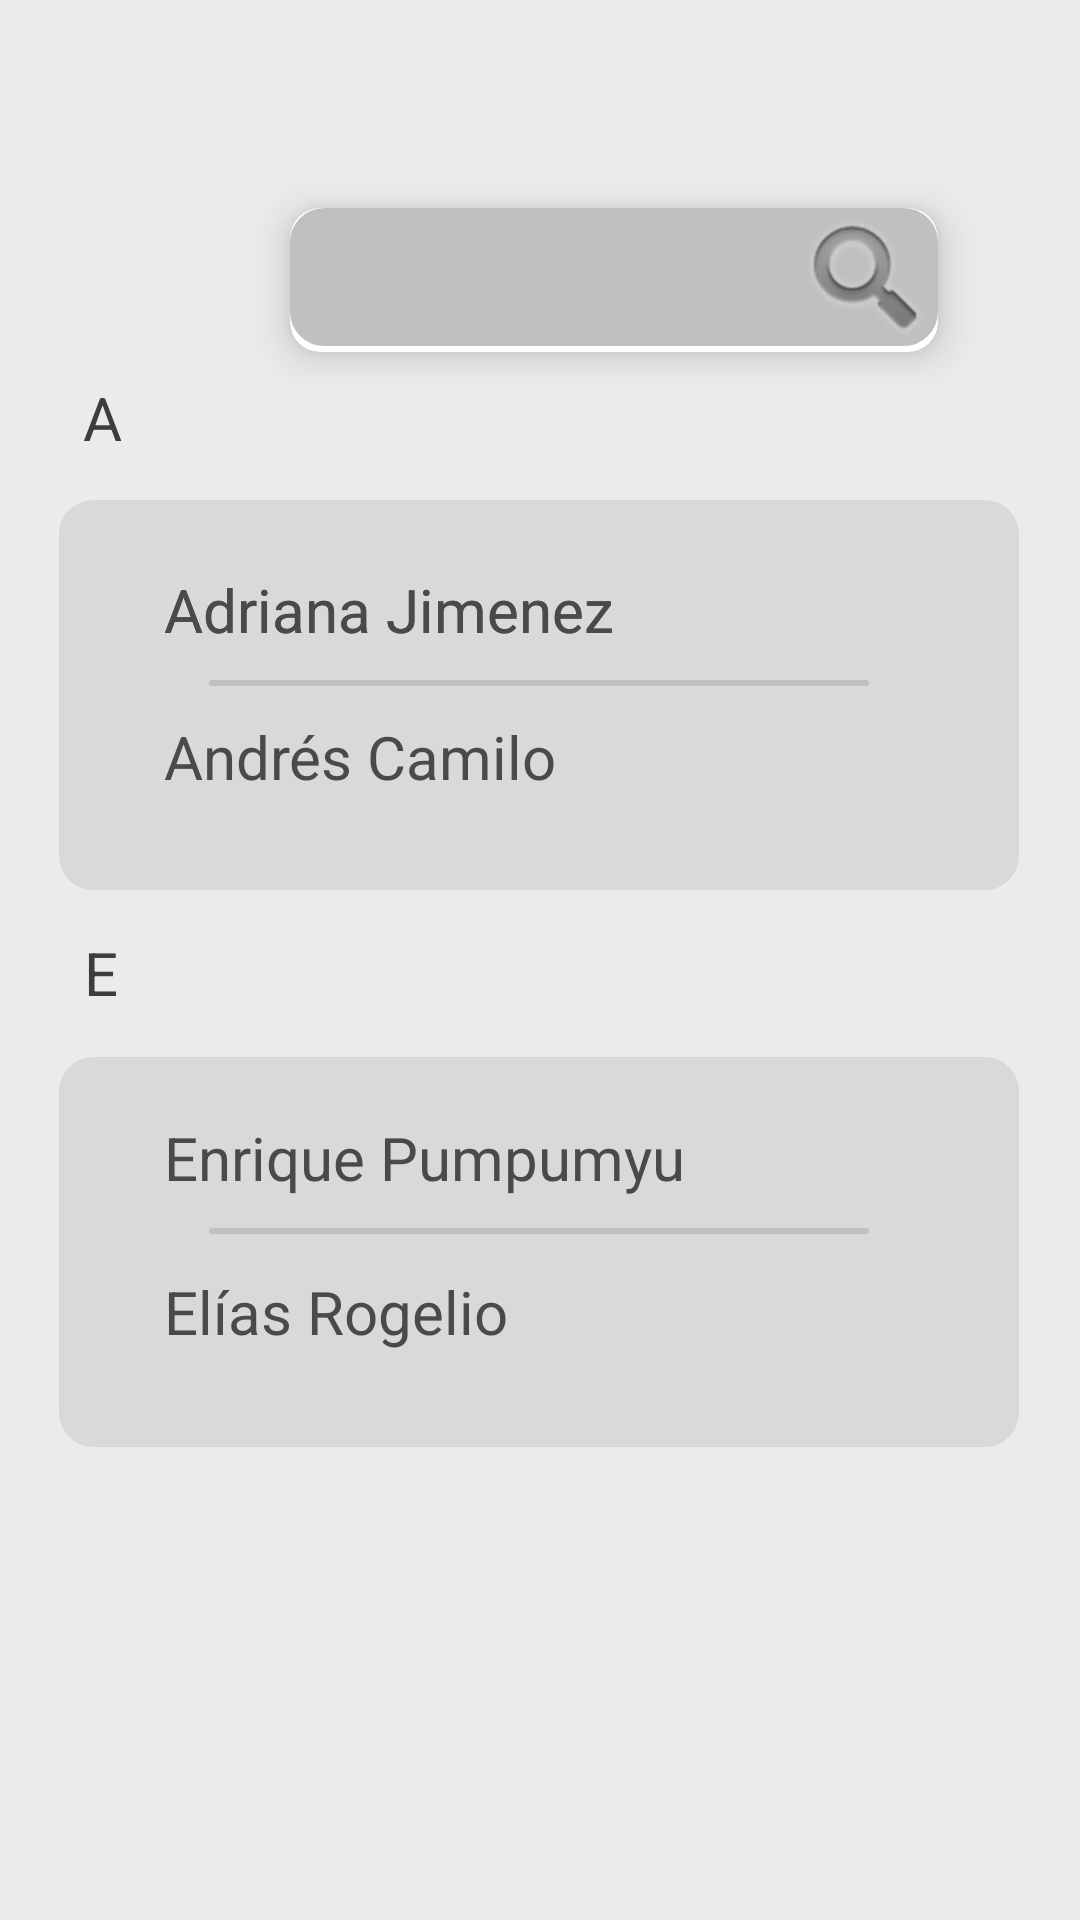

Screen size 1080px x 1920px. Icon name, then its box in pixels as (x1, y1, x2, y2):
search category: (794, 208, 938, 352)
